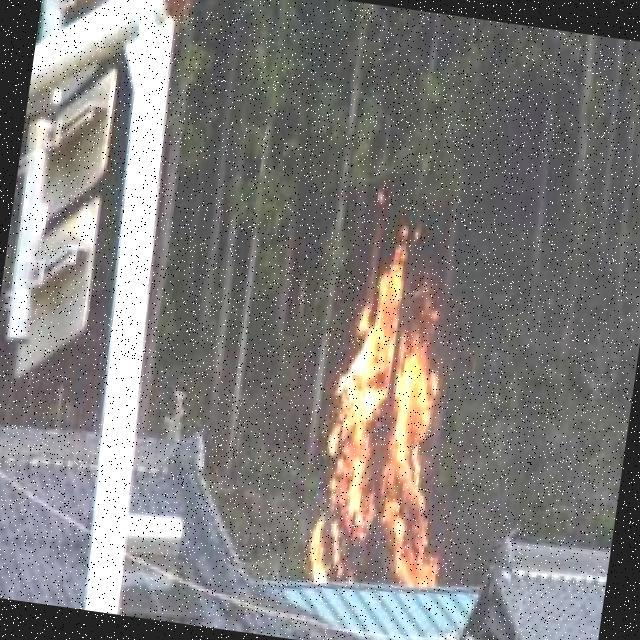Fire: (290, 219, 474, 605)
